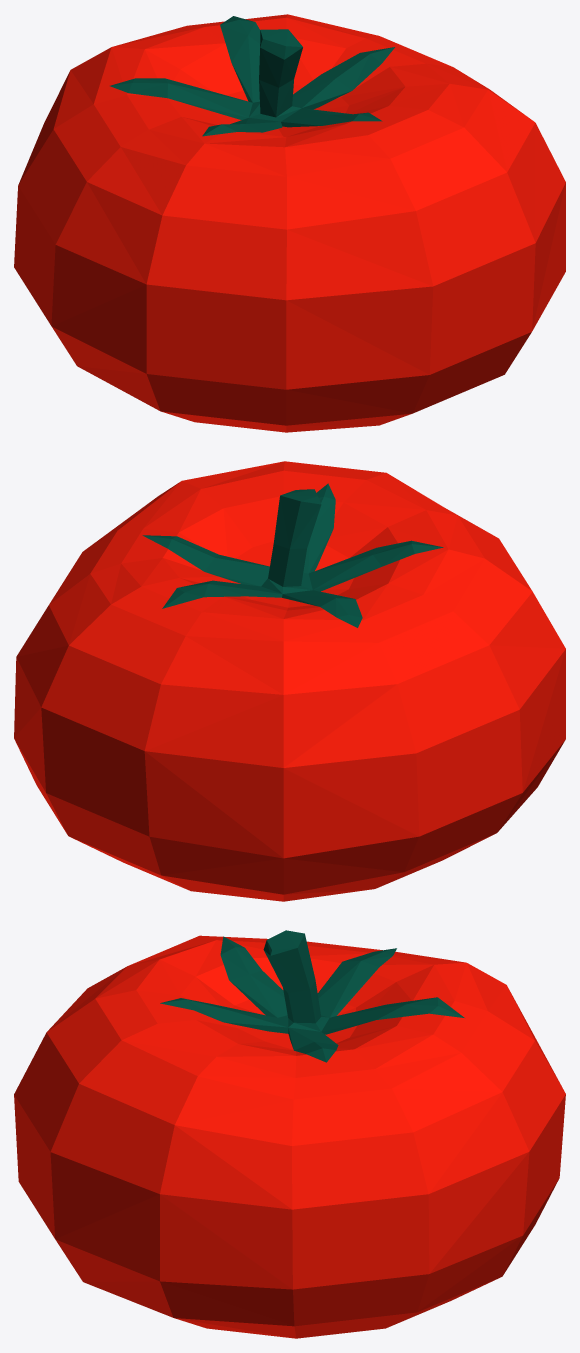
The picture shows the model from 3 angles, top to bottom: view 1: azimuth 30°, elevation 25°; view 2: azimuth 150°, elevation 25°; view 3: azimuth 270°, elevation 25°; orthographic projection. The views are drawn at different scales.
Parts seen in each view (by area): view 1: group99467727, group519167705; view 2: group99467727, group519167705; view 3: group99467727, group519167705.
Boxes of the visible parts, x1,y1,x2,y2 form: group99467727: [14, 14, 565, 432]; group519167705: [110, 16, 394, 136]; group99467727: [14, 461, 565, 901]; group519167705: [142, 483, 443, 627]; group99467727: [14, 935, 565, 1338]; group519167705: [160, 930, 464, 1062].
Bounding box in the file's own units: 1.64 × 1.16 × 1.72.
